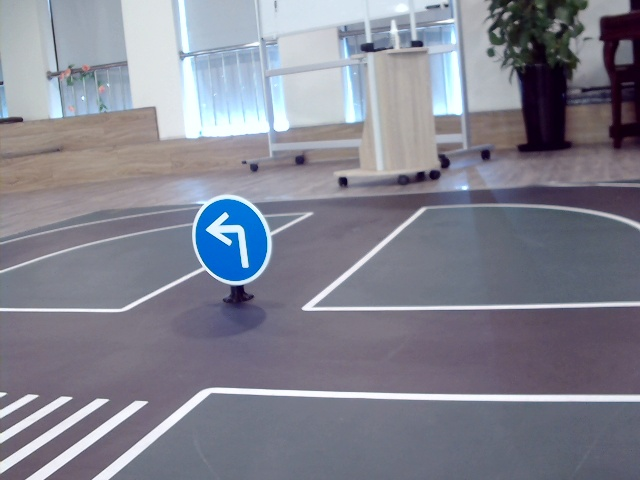turn_left: (205, 209, 255, 269)
